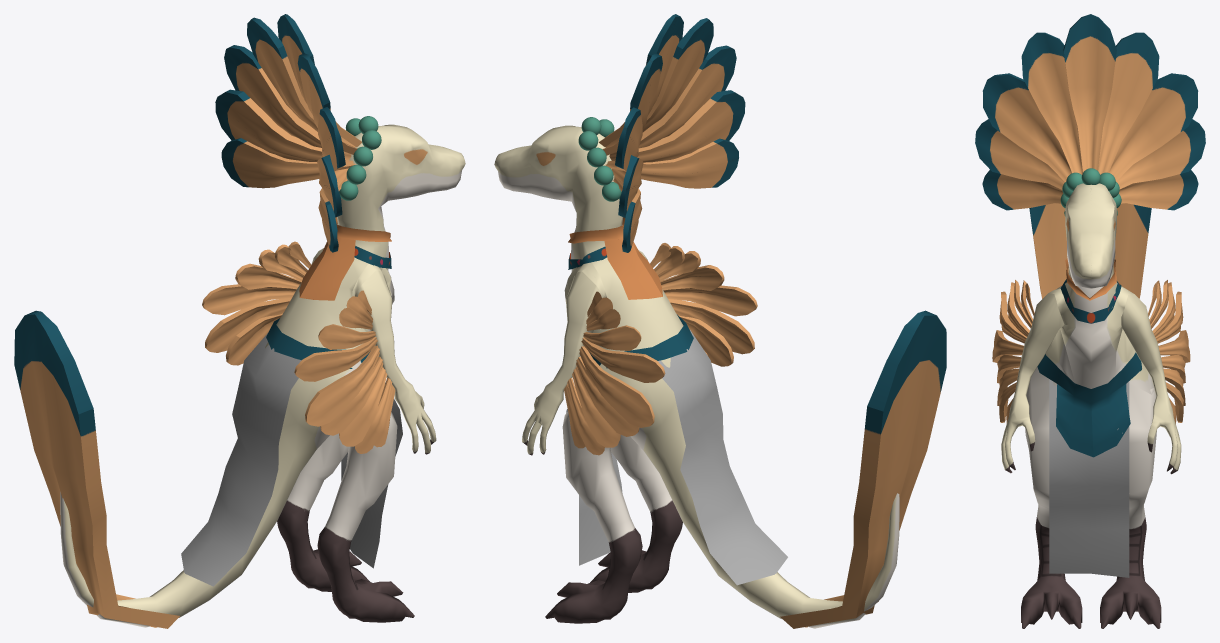
The model's file is Tamiri.fbx.
3 renders of one model, left to right at view 1: azimuth 30°, elevation 25°; view 2: azimuth 150°, elevation 25°; view 3: azimuth 270°, elevation 25°, orthographic. The views are drawn at different scales.
Visible parts, largest first — view 1: Silvan_Body, HeadFeatherF10, ArmFeatherF9, HeadFeatherF11, Dress_Back, Necklace1, Dress_Front, Headdress, HeadFeatherF1, Short_Dress; view 2: Silvan_Body, HeadFeatherF10, ArmFeatherF9, HeadFeatherF11, Dress_Back, Necklace1, Headdress, Dress_Front, HeadFeatherF1, Short_Dress; view 3: Silvan_Body, HeadFeatherF10, Dress_Front, ArmFeatherF9, HeadFeatherF1, Short_Dress, HeadFeatherF11, Headdress, Necklace, Necklace1.
Boxes of the visible parts, left/top/right/bottom form: Silvan_Body: left=60, top=124, right=465, bottom=627; HeadFeatherF10: left=215, top=17, right=357, bottom=252; ArmFeatherF9: left=202, top=241, right=395, bottom=453; HeadFeatherF11: left=14, top=310, right=179, bottom=628; Dress_Back: left=181, top=333, right=301, bottom=586; Necklace1: left=299, top=217, right=391, bottom=300; Dress_Front: left=341, top=399, right=402, bottom=568; Headdress: left=339, top=116, right=381, bottom=200; HeadFeatherF1: left=277, top=14, right=361, bottom=147; Short_Dress: left=266, top=318, right=385, bottom=383; Silvan_Body: left=494, top=125, right=899, bottom=628; HeadFeatherF10: left=602, top=18, right=745, bottom=252; ArmFeatherF9: left=564, top=243, right=757, bottom=455; HeadFeatherF11: left=780, top=310, right=946, bottom=628; Dress_Back: left=658, top=330, right=787, bottom=585; Necklace1: left=568, top=217, right=662, bottom=299; Headdress: left=578, top=117, right=621, bottom=201; Dress_Front: left=566, top=409, right=622, bottom=565; HeadFeatherF1: left=598, top=14, right=683, bottom=146; Short_Dress: left=589, top=314, right=693, bottom=368; Silvan_Body: left=1001, top=183, right=1181, bottom=628; HeadFeatherF10: left=975, top=32, right=1205, bottom=210; Dress_Front: left=1049, top=379, right=1129, bottom=577; ArmFeatherF9: left=992, top=280, right=1190, bottom=423; HeadFeatherF1: left=1063, top=14, right=1116, bottom=173; Short_Dress: left=1037, top=352, right=1141, bottom=457; HeadFeatherF11: left=1029, top=203, right=1151, bottom=298; Headdress: left=1060, top=168, right=1121, bottom=216; Necklace: left=1060, top=279, right=1121, bottom=323; Necklace1: left=1065, top=258, right=1116, bottom=300.
Bounding box in the file's own units: 156 × 208 × 76.12.
